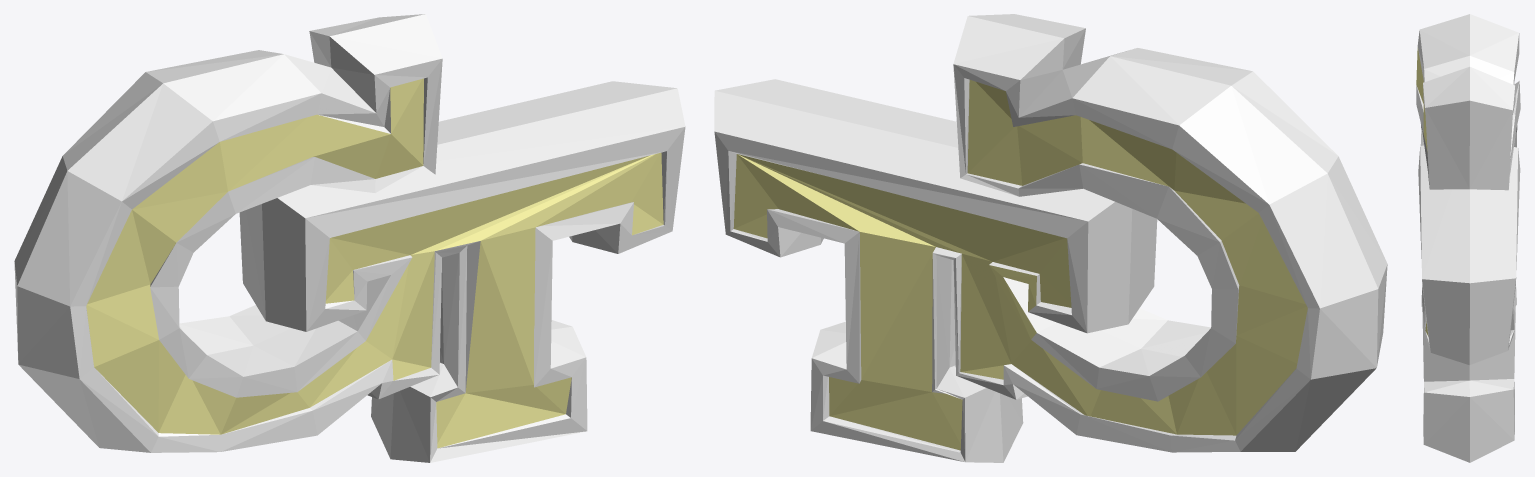
The model's file is georgiaTech.glb.
3 renders of one model, left to right at view 1: azimuth 30°, elevation 25°; view 2: azimuth 150°, elevation 25°; view 3: azimuth 270°, elevation 25°, orthographic. The views are drawn at different scales.
Visible parts, largest first — view 1: georgiaTech; view 2: georgiaTech; view 3: georgiaTech.
Part boxes in pixels (left/top/right/bottom): georgiaTech: left=14, top=14, right=685, bottom=462; georgiaTech: left=714, top=14, right=1387, bottom=462; georgiaTech: left=1416, top=14, right=1520, bottom=462.
Bounding box in the file's own units: 29.4 × 18.85 × 5.7.
1 material, 1 textured.
